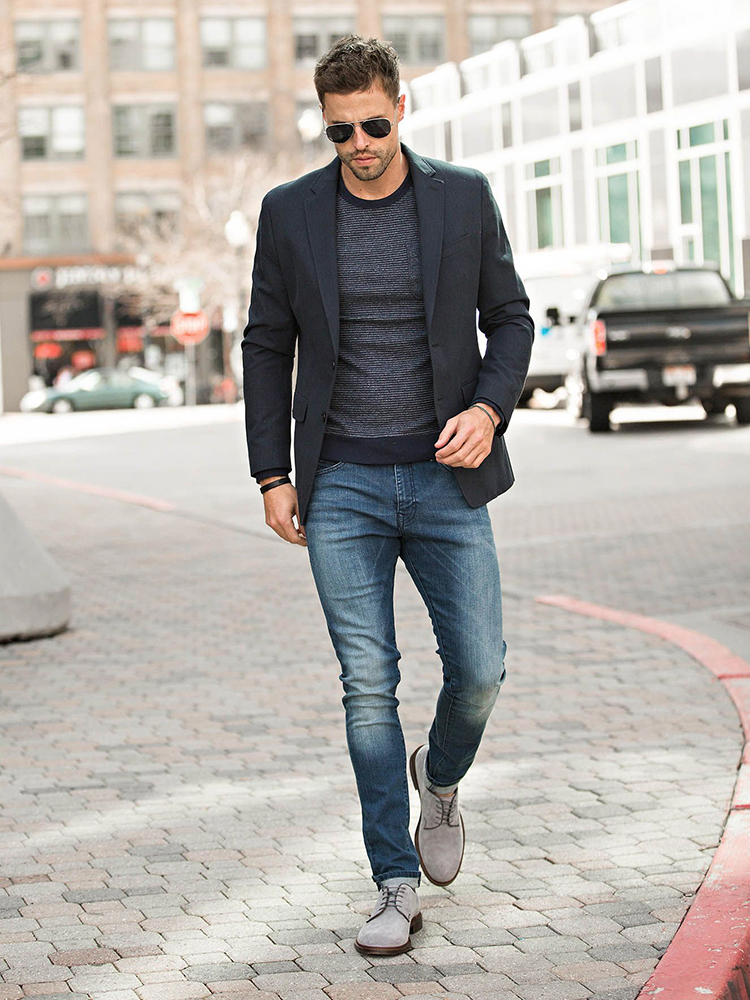NOTSAFE: (265, 34, 492, 482)
